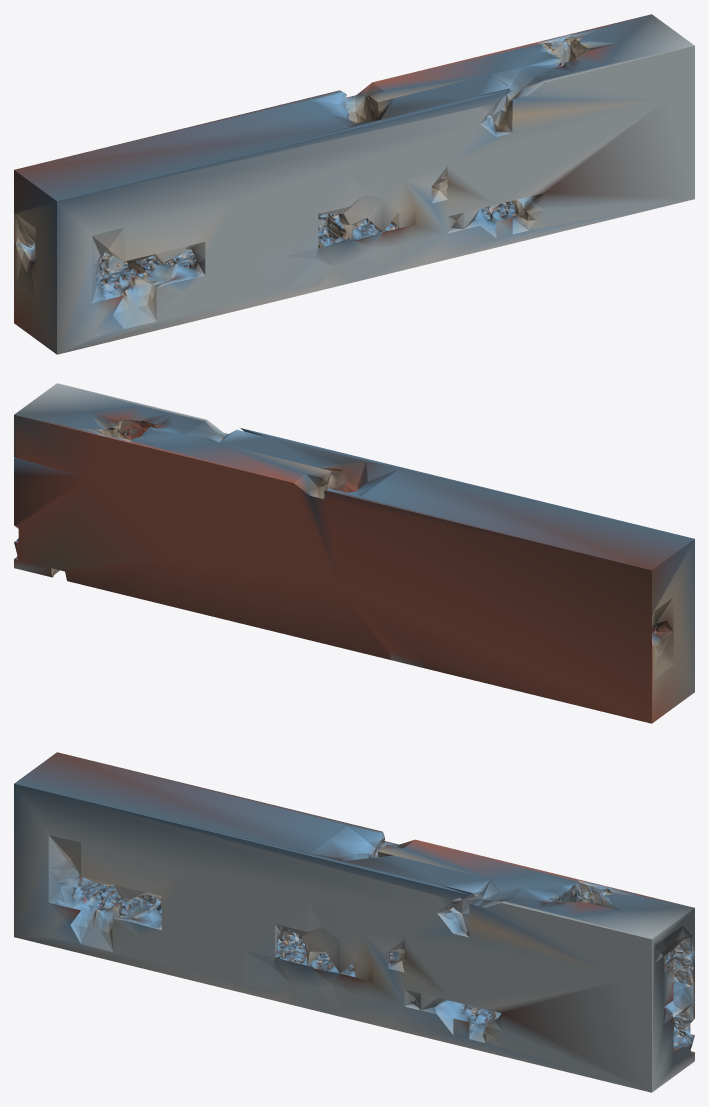
The model's file is floor02_2.glb.
3 views of the same model, one above another, from view 1: azimuth 30°, elevation 25°; view 2: azimuth 150°, elevation 25°; view 3: azimuth 330°, elevation 25° (orthographic).
Parts seen in each view (by area): view 1: Mesh_0_Part_0; view 2: Mesh_0_Part_0; view 3: Mesh_0_Part_0.
Boxes of the visible parts, left/top/right/bottom form: Mesh_0_Part_0: left=14, top=14, right=694, bottom=354; Mesh_0_Part_0: left=14, top=383, right=694, bottom=723; Mesh_0_Part_0: left=14, top=752, right=694, bottom=1092.
Size of the model in its own units: 45.95 by 10.64 by 5.39.
